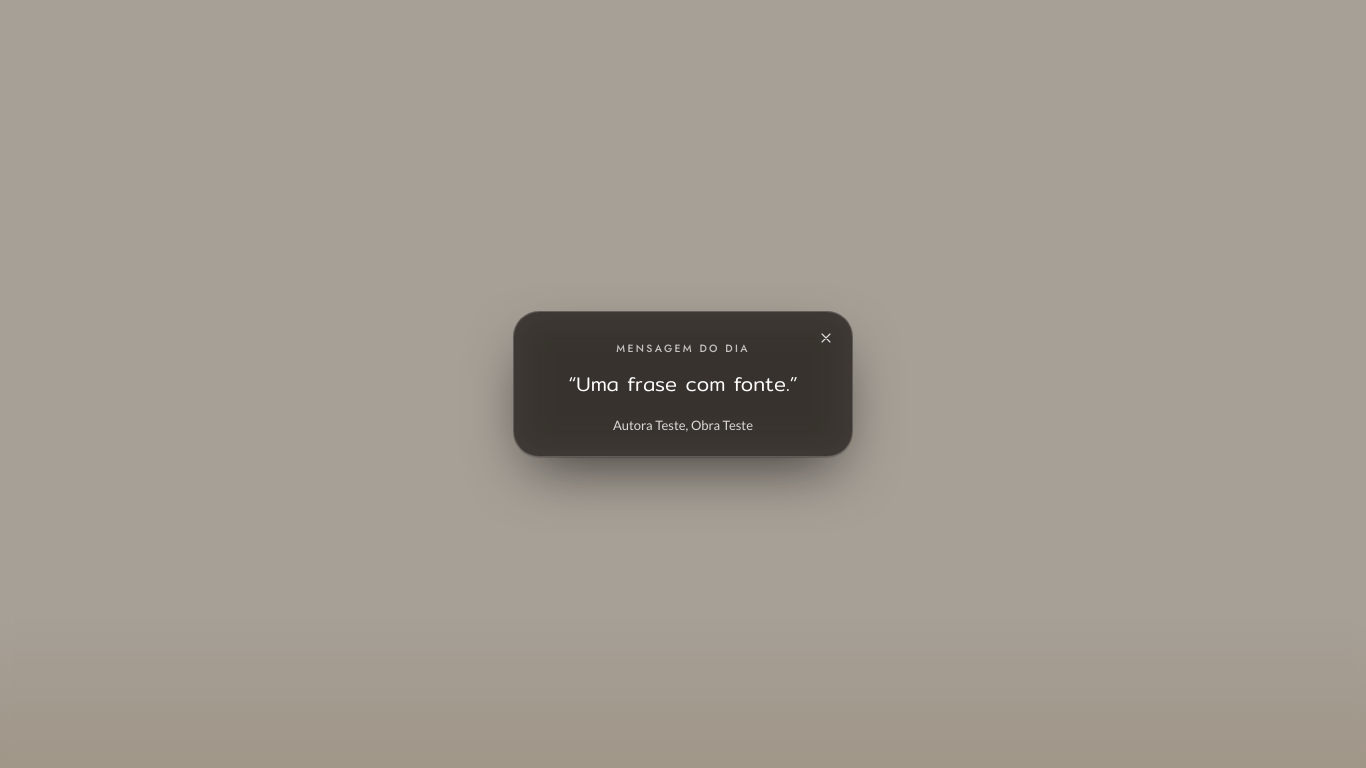
Scenario: DailyInspiration — popup só ao abrir o app › fecha no X e depois some: nada fica na Home
Step 1. Click the button named "Fechar mensagem do dia" → (826, 338), box left=808, top=320, right=844, bottom=356
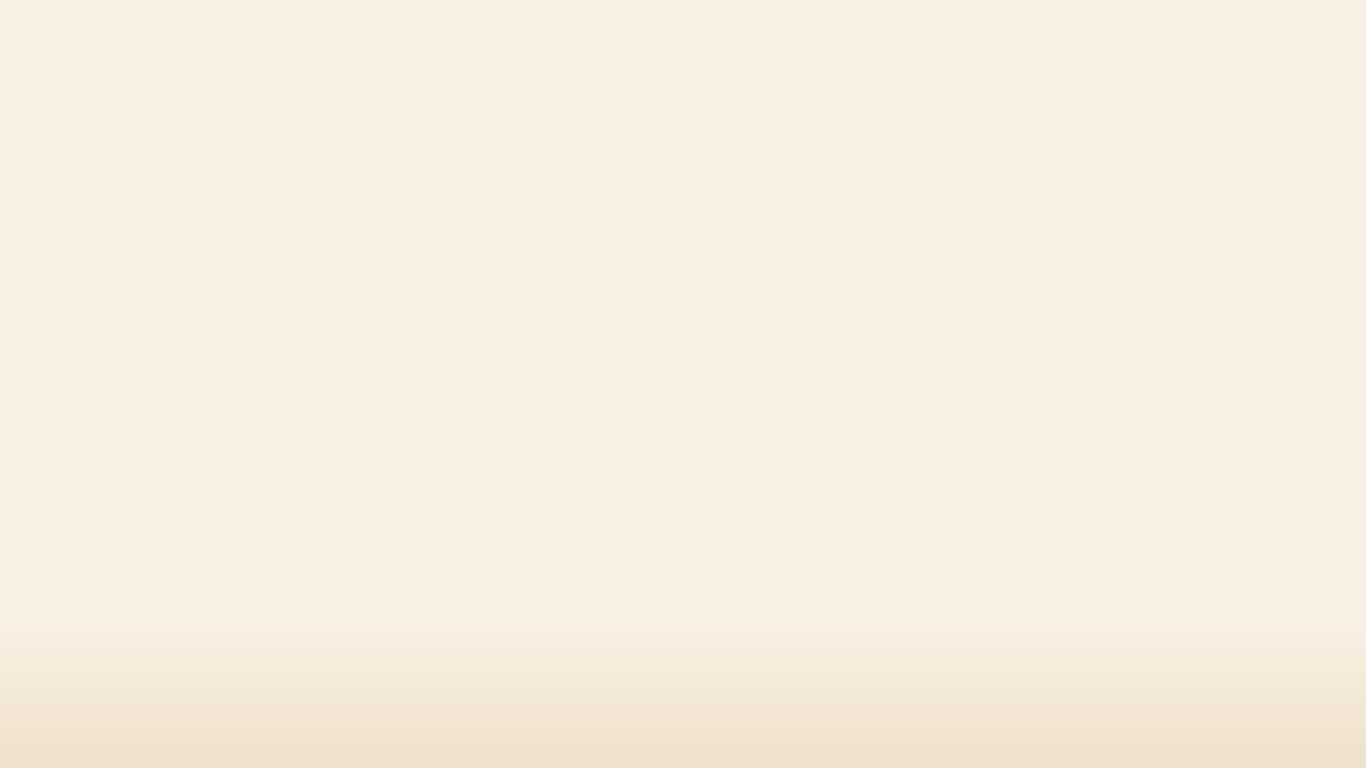
expect the dialog is gone: met
